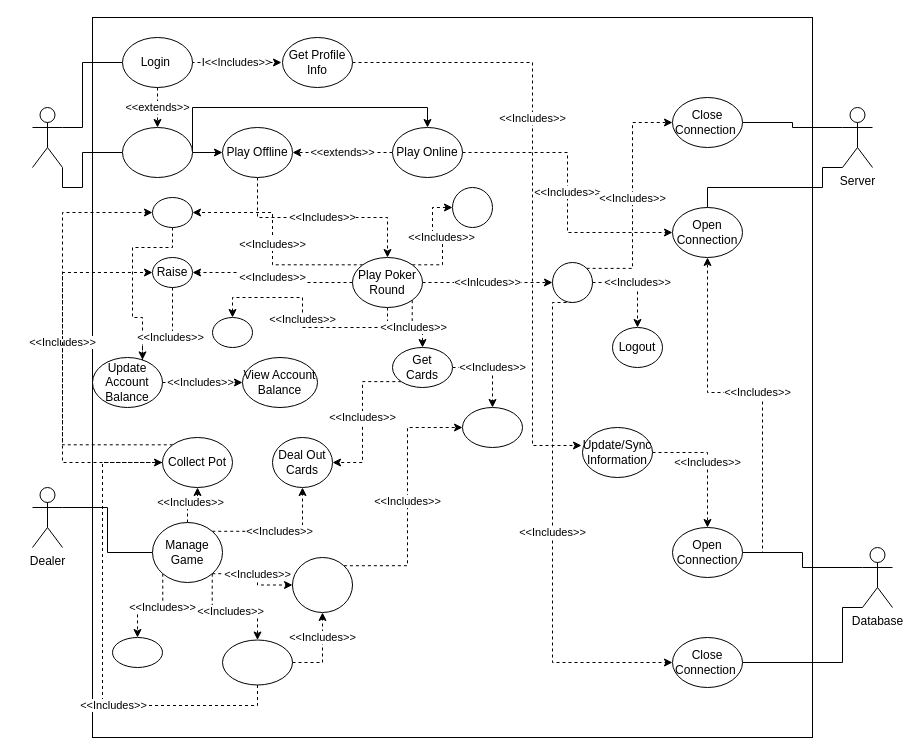
This 920x755 diagram has some shape labels left out. Here are the shapes that lost their labels. From the top down, the centre of each, then its label:
At point 47,137: "Player 1.. n".
At point 157,152: "Play as Guest".
At point 172,212: "Bet".
At point 472,207: "Play Again".
At point 572,282: "Exit".
At point 232,332: "Fold".
At point 492,427: "Show Cards".
At point 322,584: "Determine Winner".
At point 137,652: "Shuffle".
At point 257,662: "Distribute Pot".
